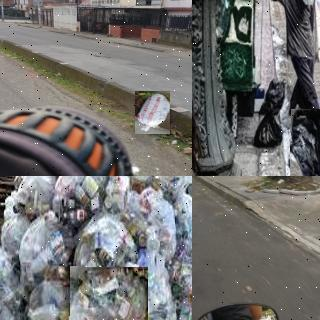Garbage: (13, 211, 79, 290), (75, 216, 139, 288), (69, 266, 148, 320), (50, 176, 135, 226), (21, 261, 76, 320), (0, 244, 28, 320), (290, 109, 320, 176), (9, 176, 60, 212), (170, 194, 192, 263), (135, 91, 170, 134), (250, 105, 284, 149), (175, 256, 192, 320), (132, 176, 192, 194), (259, 77, 285, 116)
